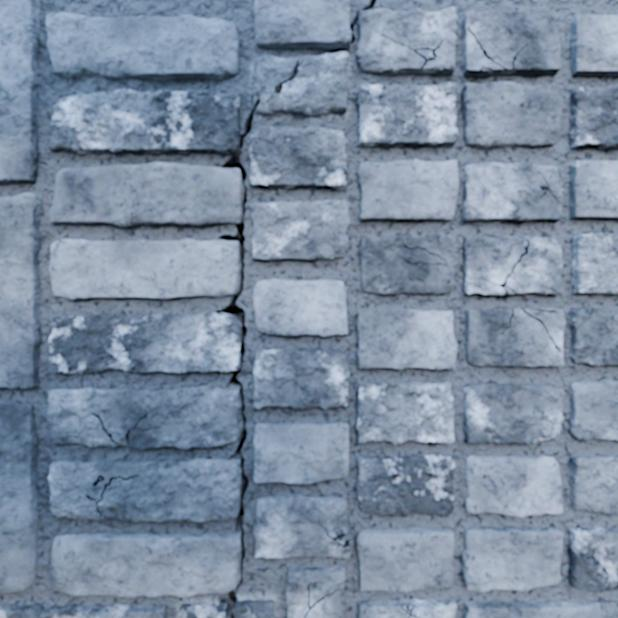broken_brick: (252, 51, 349, 116), (234, 600, 274, 617), (179, 604, 224, 617)
crack: (46, 89, 348, 617), (254, 0, 456, 75), (46, 12, 239, 80), (0, 193, 41, 388), (0, 400, 38, 593), (0, 0, 40, 183), (461, 82, 563, 149), (461, 527, 563, 592), (358, 82, 458, 147), (253, 494, 353, 559), (462, 10, 560, 76), (357, 159, 458, 221), (356, 527, 453, 591), (461, 235, 564, 295), (356, 381, 454, 444), (463, 383, 564, 444), (356, 454, 455, 516), (356, 308, 456, 369), (359, 234, 459, 295), (251, 199, 349, 261), (462, 162, 563, 222), (464, 456, 563, 517), (465, 307, 565, 366), (253, 348, 349, 409), (253, 422, 348, 483), (253, 279, 347, 337), (567, 526, 617, 592), (568, 86, 617, 150), (285, 566, 345, 617), (566, 307, 617, 366), (568, 454, 617, 515), (568, 380, 617, 440), (570, 233, 617, 295), (570, 15, 617, 76), (569, 161, 617, 218), (462, 600, 617, 617), (0, 603, 167, 617), (357, 599, 456, 617), (274, 58, 304, 93)
